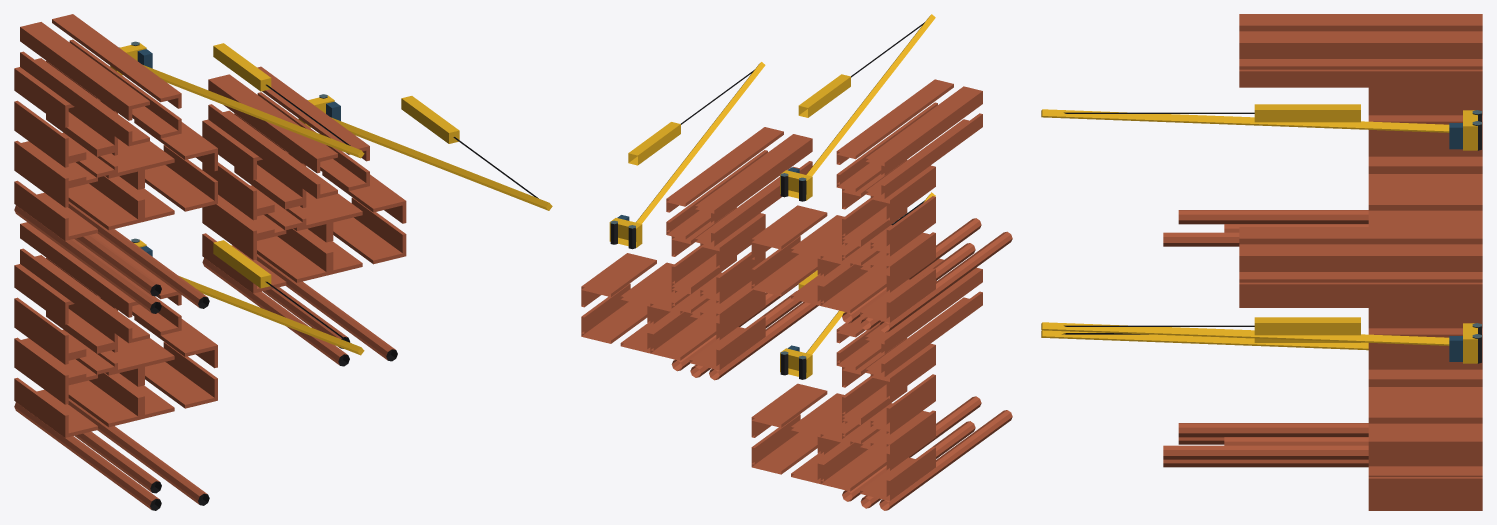
The model's file is construction_2.glb.
3 renders of one model, left to right at view 1: azimuth 30°, elevation 25°; view 2: azimuth 150°, elevation 25°; view 3: azimuth 270°, elevation 25°, orthographic. The views are drawn at different scales.
Visible parts, largest first — view 1: t03_g40.002, t02_g39.002, t00_g39.002, t22_g40.002, t21_g39.002, t01_g40.002, t31_g41.002, t12_g41.002, t10_g41.002, t13_g42.002, t32_g42.002, t11_g42.002; view 2: t03_g40.002, t22_g40.002, t02_g39.002, t00_g39.002, t01_g40.002, t21_g39.002, t12_g41.002, t10_g41.002, t31_g41.002, t32_g42.002, t13_g42.002, t11_g42.002; view 3: t03_g40.002, t22_g40.002, t31_g41.002, t21_g39.002, t02_g39.002, t13_g42.002, t32_g42.002, t12_g41.002, t11_g42.002, t00_g39.002, t01_g40.002, t10_g41.002.
Part boxes in pixels (left/top/right/bottom): t03_g40.002: left=14, top=14, right=181, bottom=160; t02_g39.002: left=14, top=116, right=209, bottom=313; t00_g39.002: left=14, top=313, right=209, bottom=510; t22_g40.002: left=202, top=66, right=369, bottom=213; t21_g39.002: left=202, top=169, right=397, bottom=366; t01_g40.002: left=14, top=222, right=181, bottom=357; t31_g41.002: left=300, top=172, right=406, bottom=274; t12_g41.002: left=111, top=120, right=217, bottom=222; t10_g41.002: left=112, top=317, right=217, bottom=418; t13_g42.002: left=110, top=41, right=364, bottom=158; t32_g42.002: left=298, top=94, right=552, bottom=210; t11_g42.002: left=131, top=238, right=364, bottom=355; t03_g40.002: left=836, top=79, right=982, bottom=249; t22_g40.002: left=666, top=127, right=812, bottom=297; t02_g39.002: left=820, top=210, right=1012, bottom=332; t00_g39.002: left=820, top=388, right=1012, bottom=510; t01_g40.002: left=836, top=258, right=982, bottom=428; t21_g39.002: left=650, top=257, right=818, bottom=380; t12_g41.002: left=751, top=205, right=847, bottom=305; t10_g41.002: left=751, top=383, right=847, bottom=484; t31_g41.002: left=581, top=253, right=677, bottom=353; t32_g42.002: left=609, top=62, right=765, bottom=249; t13_g42.002: left=780, top=14, right=935, bottom=201; t11_g42.002: left=780, top=192, right=935, bottom=379; t03_g40.002: left=1239, top=14, right=1482, bottom=146; t22_g40.002: left=1239, top=227, right=1482, bottom=359; t31_g41.002: left=1368, top=399, right=1482, bottom=503; t21_g39.002: left=1163, top=359, right=1482, bottom=459; t02_g39.002: left=1163, top=146, right=1482, bottom=246; t13_g42.002: left=1041, top=104, right=1481, bottom=150; t32_g42.002: left=1041, top=317, right=1481, bottom=363; t12_g41.002: left=1368, top=187, right=1482, bottom=226; t11_g42.002: left=1041, top=330, right=1368, bottom=350; t00_g39.002: left=1163, top=437, right=1368, bottom=467; t01_g40.002: left=1239, top=300, right=1368, bottom=307; t10_g41.002: left=1368, top=503, right=1482, bottom=510.
Size of the model in its own units: 58.4 by 62.9 by 58.08.
